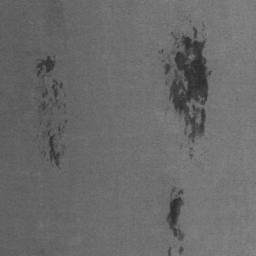Iron scale compression: (162, 36, 208, 141), (167, 191, 185, 243), (49, 137, 62, 168), (37, 57, 56, 75), (53, 81, 62, 106)
